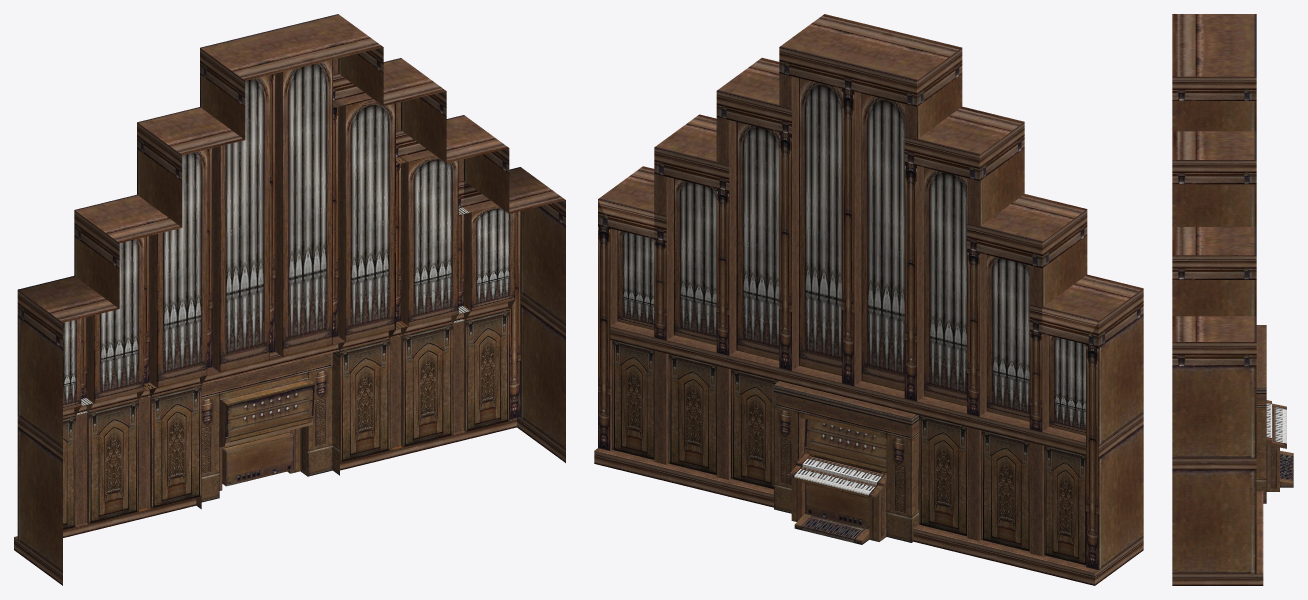
The model's file is pipe_organ.fbx.
The picture shows the model from 3 angles, left to right: view 1: azimuth 30°, elevation 25°; view 2: azimuth 150°, elevation 25°; view 3: azimuth 270°, elevation 25°; orthographic projection. The views are drawn at different scales.
Parts seen in each view (by area): view 1: mesh_0; view 2: mesh_0; view 3: mesh_0.
Boxes of the visible parts, x1,y1,x2,y2 form: mesh_0: [14, 14, 565, 585]; mesh_0: [594, 14, 1143, 585]; mesh_0: [1172, 14, 1293, 585].
Bounding box in the file's own units: 800 × 700 × 180.
Materials: 1 (1 with a texture image).
